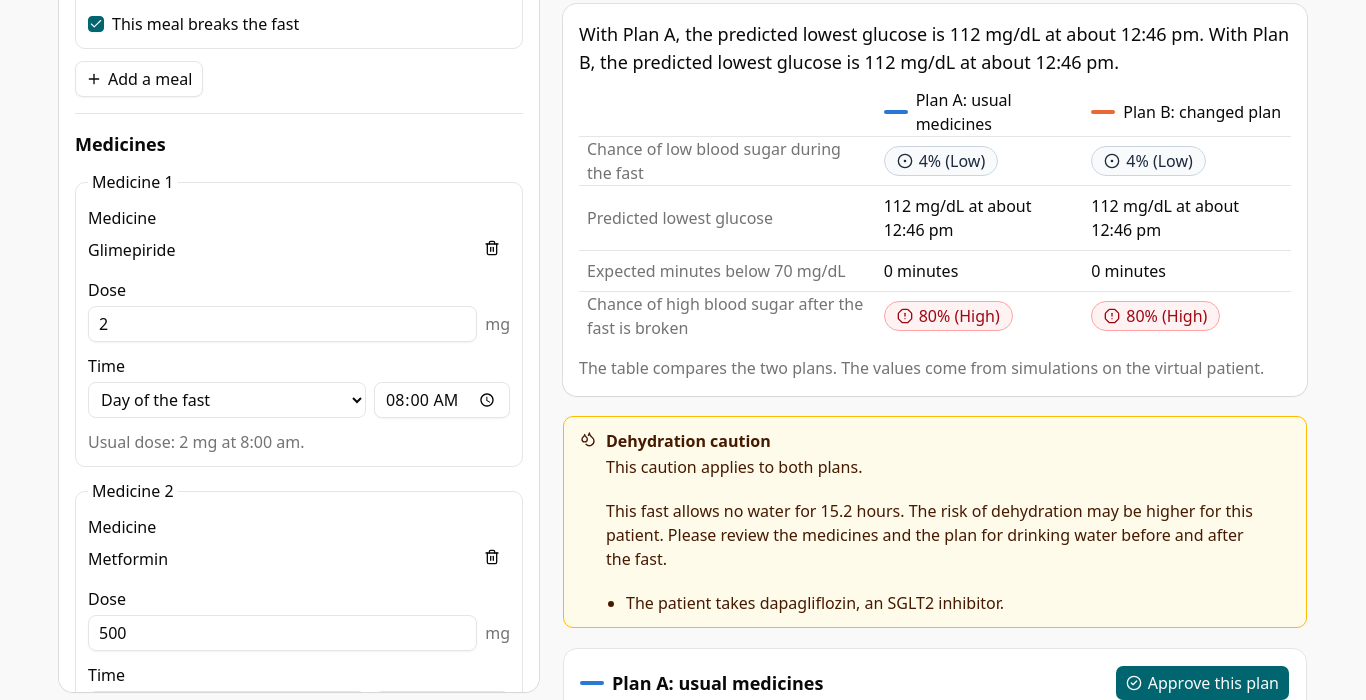
it: a dose above the largest single dose stops the test
(page scrolled)
Expected: the text "With Plan A, the predicted lowest glucose is" is shown, x1=579 y1=22 x2=1289 y2=74
Replace the text in the number field named "Dose, Glimepiride" with "40" at (283, 324), box x1=88 y1=306 x2=477 y2=342
(page scrolled)
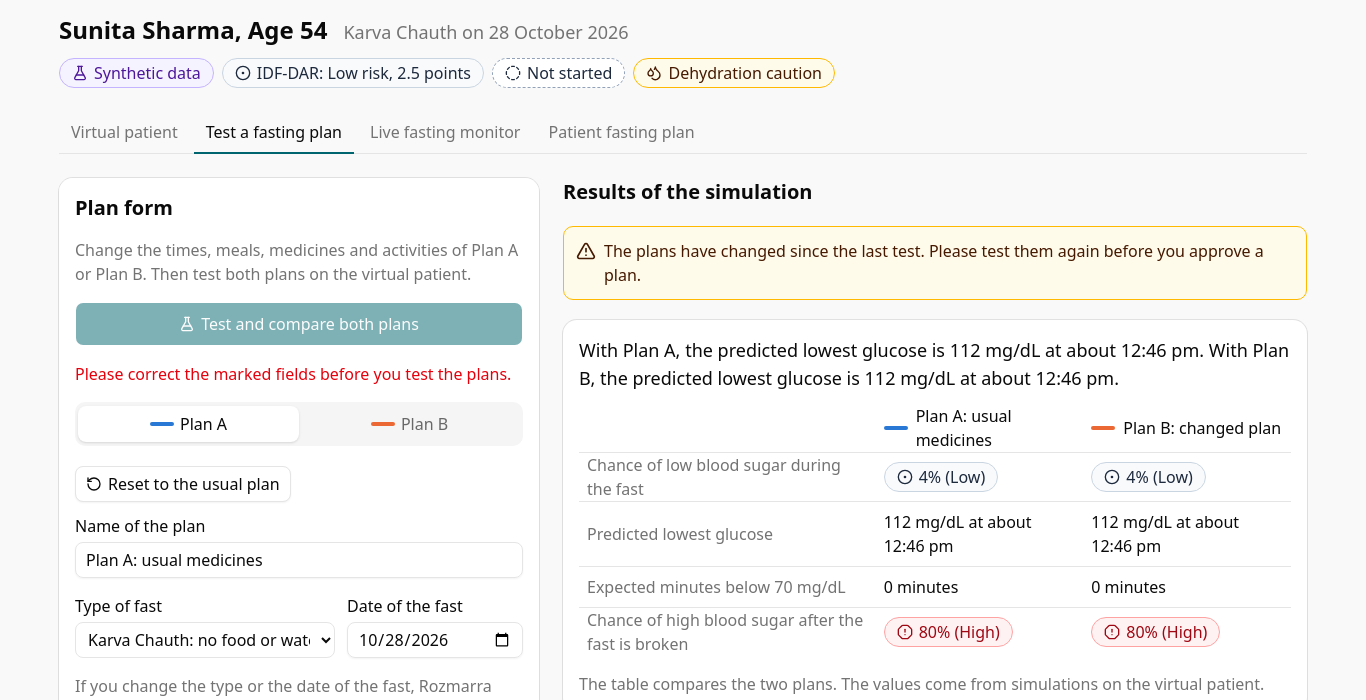
Expected: the button "Test and compare both plans" is disabled, x1=75 y1=302 x2=523 y2=346
